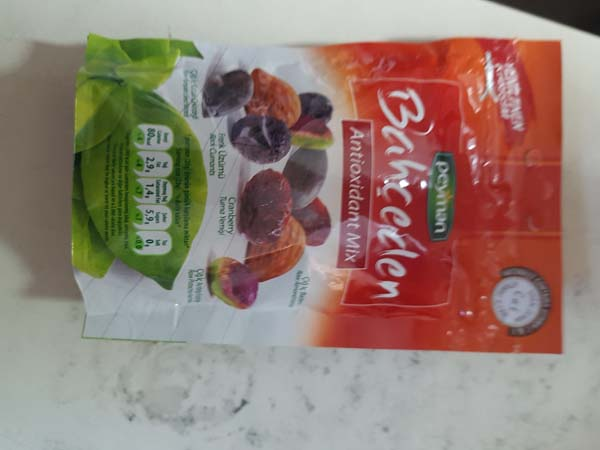bahcedenantioxidan: (70, 26, 570, 366)
